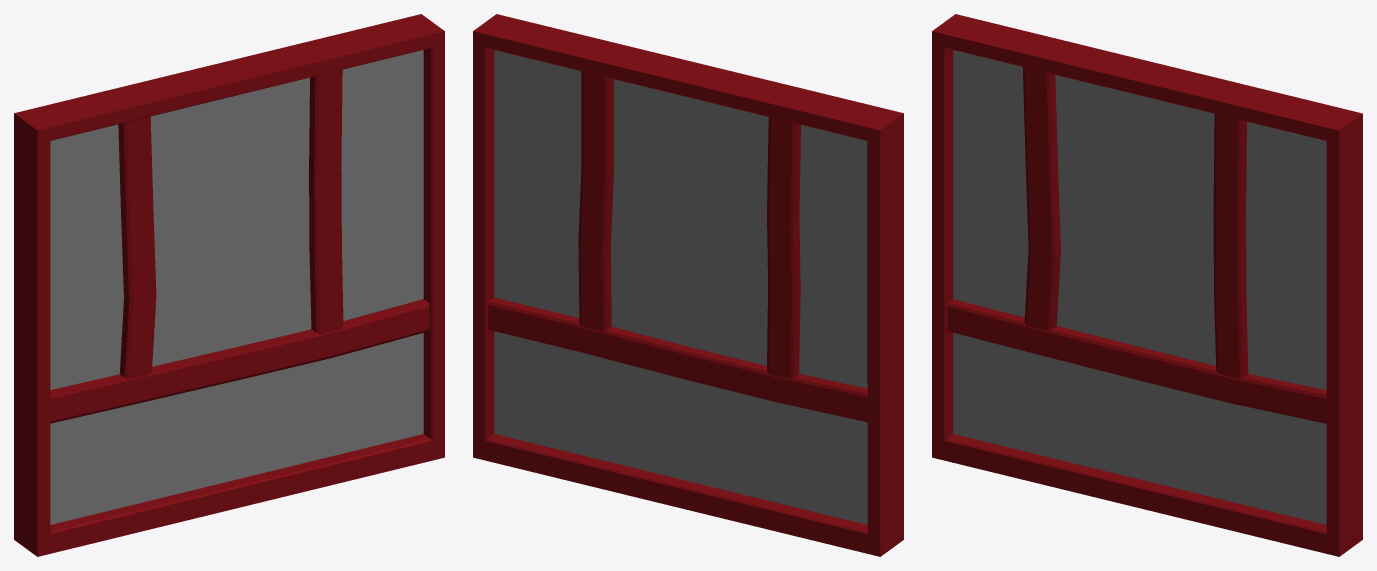
File: SM_MH_01_Wood_02_Wall_Indoor_02.fbx
3 renders of one model, left to right at view 1: azimuth 30°, elevation 25°; view 2: azimuth 150°, elevation 25°; view 3: azimuth 330°, elevation 25°, orthographic.
Parts seen in each view (by area): view 1: SM_MH_01_Wood_02_Wall_Indoor_02_LOD0; view 2: SM_MH_01_Wood_02_Wall_Indoor_02_LOD0; view 3: SM_MH_01_Wood_02_Wall_Indoor_02_LOD0.
Boxes of the visible parts, x1,y1,x2,y2 form: SM_MH_01_Wood_02_Wall_Indoor_02_LOD0: [14, 14, 444, 556]; SM_MH_01_Wood_02_Wall_Indoor_02_LOD0: [473, 14, 903, 556]; SM_MH_01_Wood_02_Wall_Indoor_02_LOD0: [932, 14, 1362, 556].
Size of what is drawn, in the model's own units: 300 by 300 by 30.
